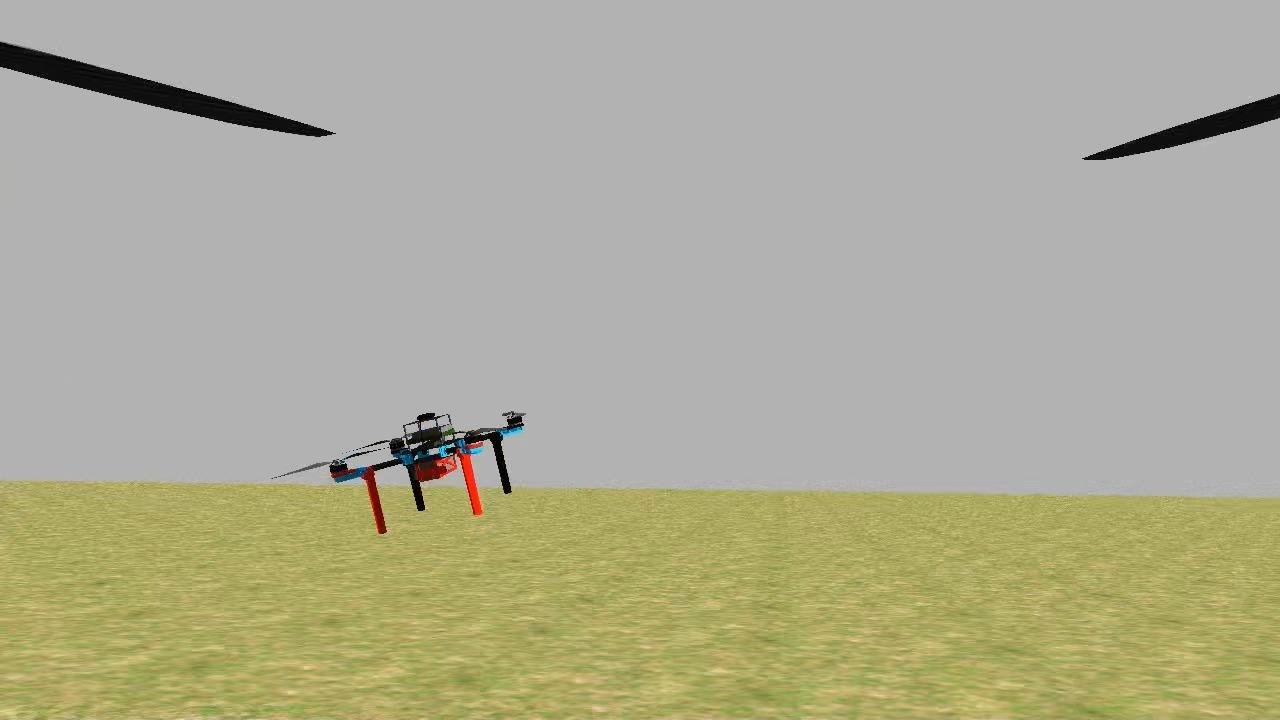UAV: (320, 400, 530, 542)
